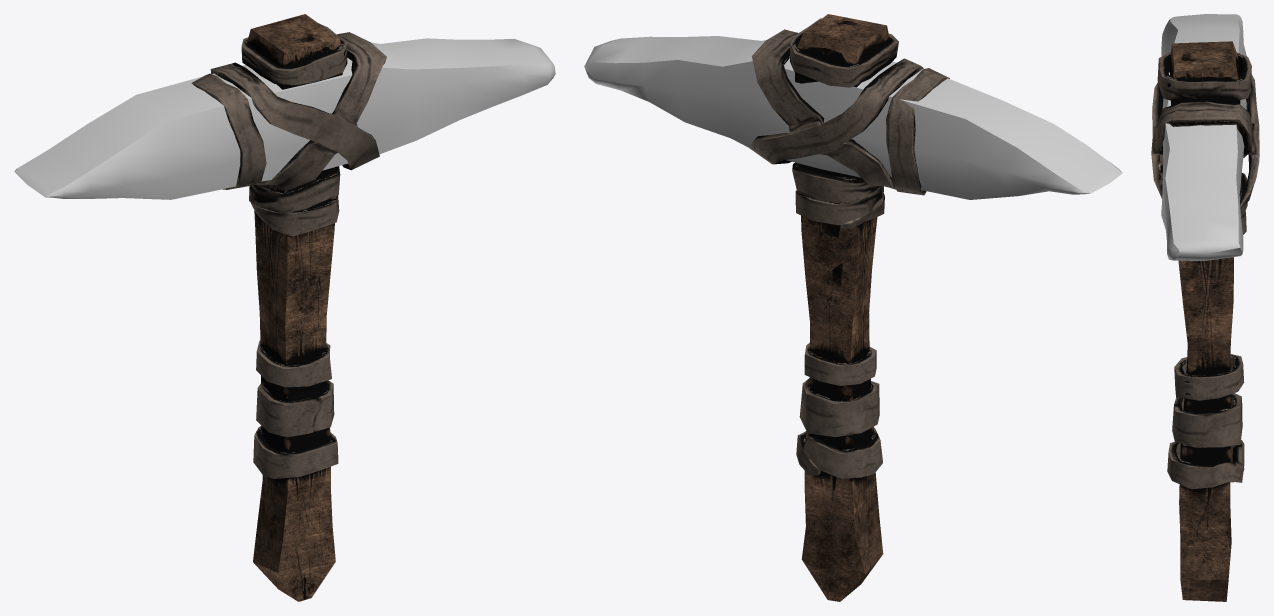
The model's file is PickAxe.fbx.
The picture shows the model from 3 angles, left to right: view 1: azimuth 30°, elevation 25°; view 2: azimuth 150°, elevation 25°; view 3: azimuth 270°, elevation 25°; orthographic projection. The views are drawn at different scales.
Visible parts, largest first — view 1: pickaxe_low; view 2: pickaxe_low; view 3: pickaxe_low.
Boxes of the visible parts, x1,y1,x2,y2 form: pickaxe_low: [14, 14, 555, 601]; pickaxe_low: [584, 14, 1122, 601]; pickaxe_low: [1151, 14, 1259, 601].
Bounding box in the file's own units: 464 × 485 × 87.06.
